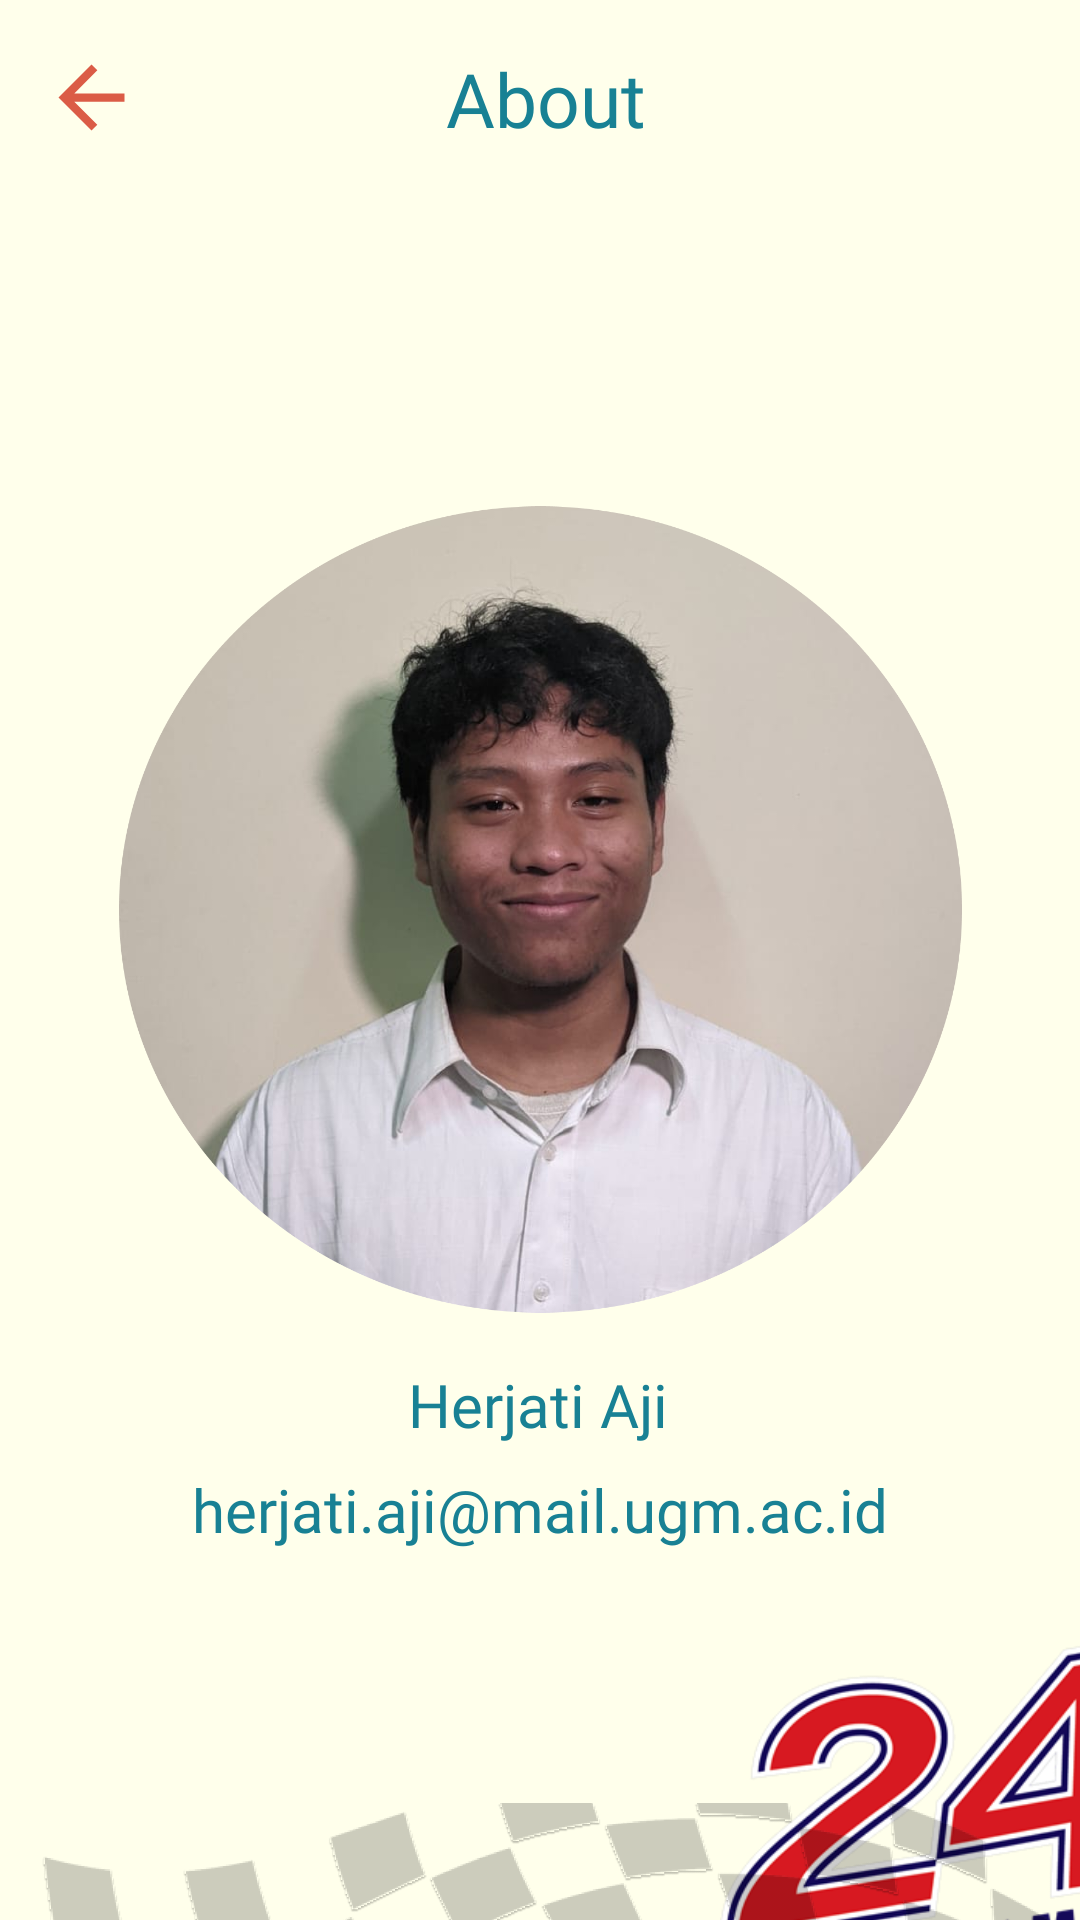

Named icons in this screenshot (1080*1920) and their bounding boxes, (x1, y1, x2, y2):
arrow back: (58, 64, 125, 131)
